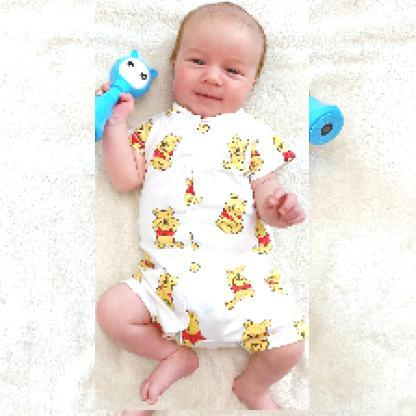child: (96, 2, 311, 412)
